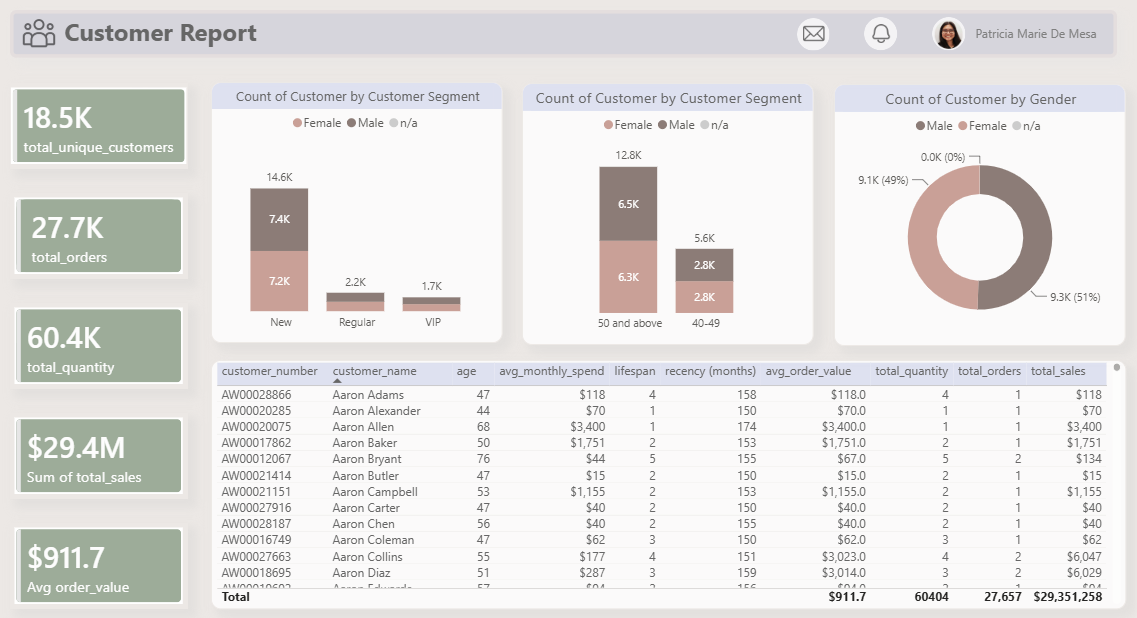

The page's visual inventory and layout, read from the dashboard file:
{"tool":"powerbi","page":{"name":"Customer Report","canvas":[1280,720],"ordinal":0},"visuals":[{"type":"textbox","box":[16.8,24.2,1229.6,52.5],"z":0},{"type":"cardVisual","fields":{"Data":["Sum(gold report_customers.total_orders)"]},"box":[16.7,227.8,197.8,95.6],"z":1000},{"type":"cardVisual","fields":{"Data":["Sum(gold report_customers.total_sales)"]},"box":[16.7,472.2,197.8,95.6],"z":2000},{"type":"cardVisual","fields":{"Data":["Sum(gold report_customers.total_quantity)"]},"box":[16.7,350,197.8,95.6],"z":3000},{"type":"cardVisual","fields":{"Data":["Avg(gold report_customers.avg_order_value)"]},"box":[16.7,594.4,197.8,95.6],"z":4000},{"type":"tableEx","fields":{"Values":["gold report_customers.customer_number","gold report_customers.customer_name","gold report_customers.age","gold report_customers.avg_monthly_spend","gold report_customers.lifespan","gold report_customers.recency","Avg(gold report_customers.avg_order_value)","Sum(gold report_customers.total_quantity)","Sum(gold report_customers.total_orders)","Sum(gold report_customers.total_sales)"]},"box":[240,413.3,1016.7,276.7],"z":5000},{"type":"columnChart","title":"Count of Customer by Customer Segment","fields":{"Category":["gold report_customers.customer_segment"],"Y":["Count(gold report_customers.customer_key)"],"Series":["gold dim_customers.gender"]},"box":[240,104.4,324.4,290],"z":6000},{"type":"cardVisual","fields":{"Data":["Count(gold report_customers.customer_key)"]},"box":[16.7,105.6,197.8,95.6],"z":7000},{"type":"columnChart","title":"Count of Customer by Customer Segment","fields":{"Category":["gold report_customers.age_group"],"Y":["Count(gold report_customers.customer_key)"],"Series":["gold dim_customers.gender"]},"box":[586.1,105,324.5,290.9],"z":8000},{"type":"donutChart","title":"Count of Customer by Gender","fields":{"Y":["Count(gold report_customers.customer_key)"],"Category":["gold dim_customers.gender"]},"box":[932.2,106.7,324.4,291.1],"z":9000},{"type":"image","box":[29.4,32.6,39.9,35.7],"z":10000},{"type":"shape","box":[965.7,32.2,37,37],"z":11000},{"type":"image","box":[970.9,36.4,26.6,28.4],"z":12000},{"type":"shape","box":[891.1,32.8,36.4,36.4],"z":13000},{"type":"image","box":[897.3,35.5,23.9,29.3],"z":14000},{"type":"shape","box":[1041,31.9,37.2,37.2],"z":15000},{"type":"image","box":[1041.1,35.6,37,32.2],"z":16000},{"type":"textbox","box":[1084.4,36.7,162.2,31.1],"z":17000}]}

Visuals, with their boxes on the page's 1280x720 design canvas (x1, y1, x2, y2). These are canvas units, not pixel positions in the 1137x618 screenshot, which may show the page scaled, cropped or inside an application window:
textbox: x1=17 y1=24 x2=1246 y2=77
cardVisual - Sum(gold report_customers.total_orders): x1=17 y1=228 x2=214 y2=323
cardVisual - Sum(gold report_customers.total_sales): x1=17 y1=472 x2=214 y2=568
cardVisual - Sum(gold report_customers.total_quantity): x1=17 y1=350 x2=214 y2=446
cardVisual - Avg(gold report_customers.avg_order_value): x1=17 y1=594 x2=214 y2=690
tableEx - gold report_customers.customer_number x gold report_customers.customer_name: x1=240 y1=413 x2=1257 y2=690
"Count of Customer by Customer Segment" columnChart: x1=240 y1=104 x2=564 y2=394
cardVisual - Count(gold report_customers.customer_key): x1=17 y1=106 x2=214 y2=201
"Count of Customer by Customer Segment" columnChart: x1=586 y1=105 x2=911 y2=396
"Count of Customer by Gender" donutChart: x1=932 y1=107 x2=1257 y2=398
image: x1=29 y1=33 x2=69 y2=68
shape: x1=966 y1=32 x2=1003 y2=69
image: x1=971 y1=36 x2=998 y2=65
shape: x1=891 y1=33 x2=928 y2=69
image: x1=897 y1=36 x2=921 y2=65
shape: x1=1041 y1=32 x2=1078 y2=69
image: x1=1041 y1=36 x2=1078 y2=68
textbox: x1=1084 y1=37 x2=1247 y2=68
